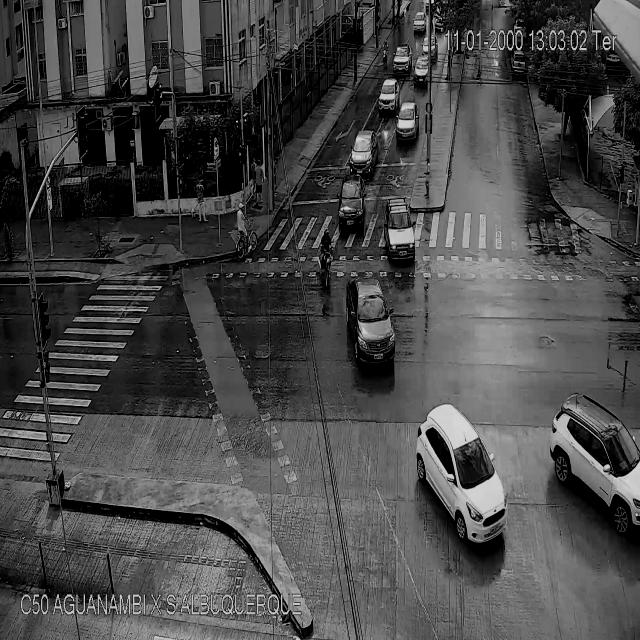Car: (417, 402, 507, 544), (550, 394, 640, 534), (346, 276, 396, 368), (385, 194, 416, 266), (338, 180, 367, 231), (349, 129, 379, 174), (394, 104, 420, 142), (378, 76, 399, 112), (394, 43, 411, 79), (422, 33, 438, 64), (415, 54, 430, 86), (414, 11, 426, 37), (512, 52, 526, 74)
Motorcycle: (318, 229, 334, 289), (382, 39, 389, 70)
